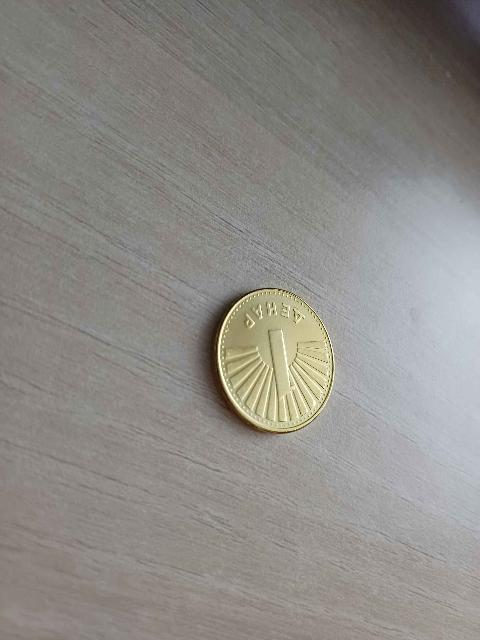1_coin: (208, 280, 338, 438)
